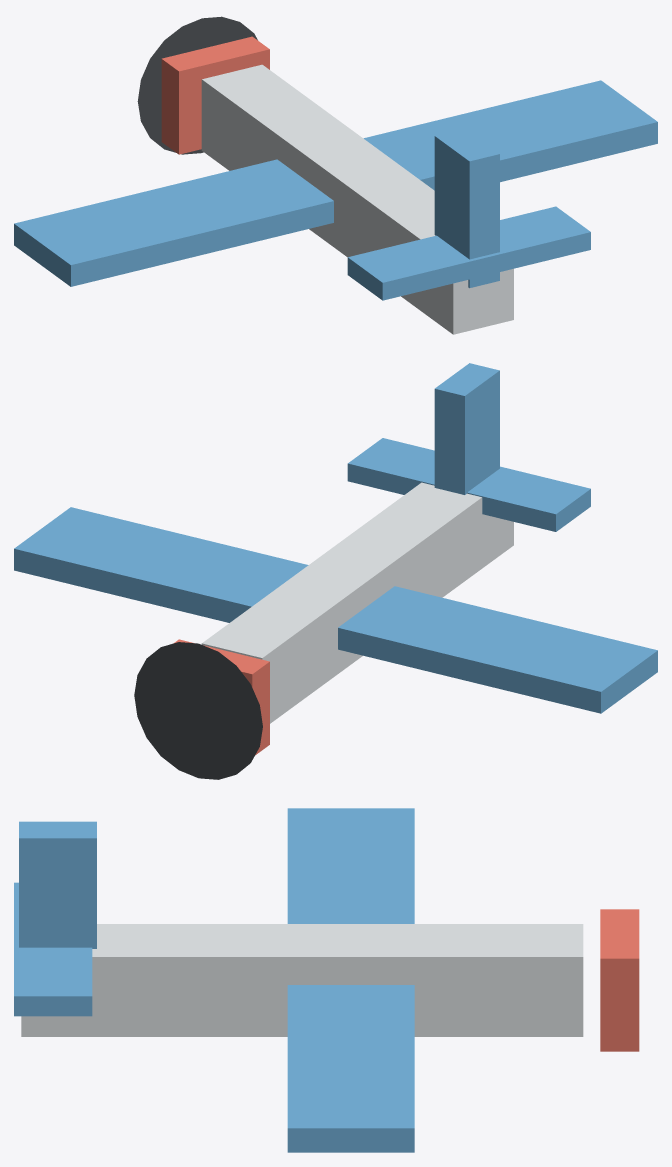
The model's file is generic_rc_plane.glb.
3 views of the same model, one above another, from view 1: azimuth 30°, elevation 25°; view 2: azimuth 150°, elevation 25°; view 3: azimuth 270°, elevation 25° (orthographic). The views are drawn at different scales.
Parts seen in each view (by area): view 1: Generic RC Plane; view 2: Generic RC Plane; view 3: Generic RC Plane.
Part boxes in pixels (box(x1,y1,x2,y2)): Generic RC Plane: box(14, 16, 657, 334); Generic RC Plane: box(14, 363, 657, 779); Generic RC Plane: box(14, 808, 639, 1152).
Bounding box in the file's own units: 1.55 × 0.51 × 1.32.
